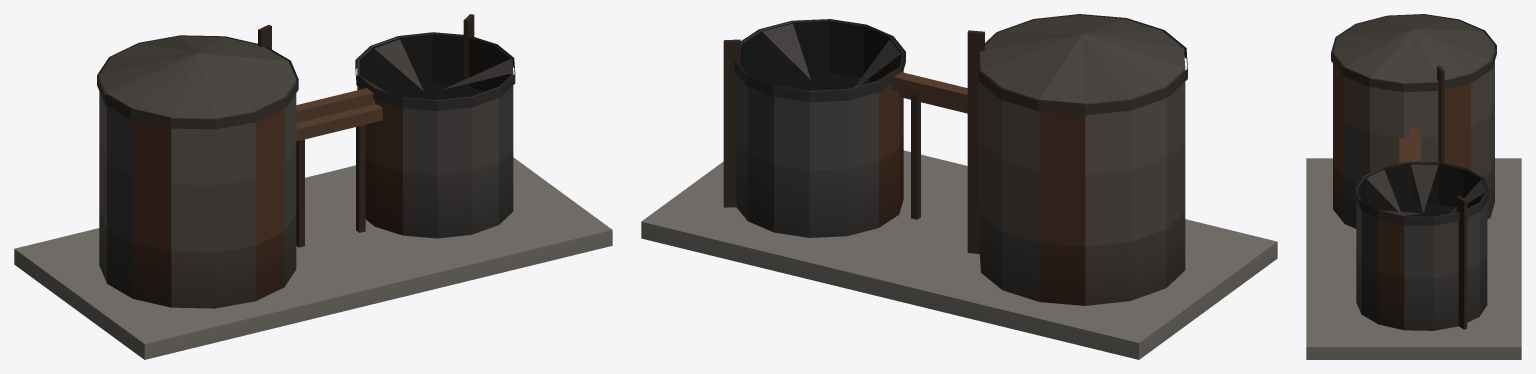
Rendered from L18D_TankPair.fbx.
3 renders of one model, left to right at view 1: azimuth 30°, elevation 25°; view 2: azimuth 150°, elevation 25°; view 3: azimuth 270°, elevation 25°, orthographic. The views are drawn at different scales.
Visible parts, largest first — view 1: L18D_TankPair; view 2: L18D_TankPair; view 3: L18D_TankPair.
Boxes of the visible parts, x1,y1,x2,y2 form: L18D_TankPair: (14,14,612,359); L18D_TankPair: (641,14,1277,359); L18D_TankPair: (1306,14,1521,359).
Bounding box in the file's own units: 17 × 7.98 × 8.2.
